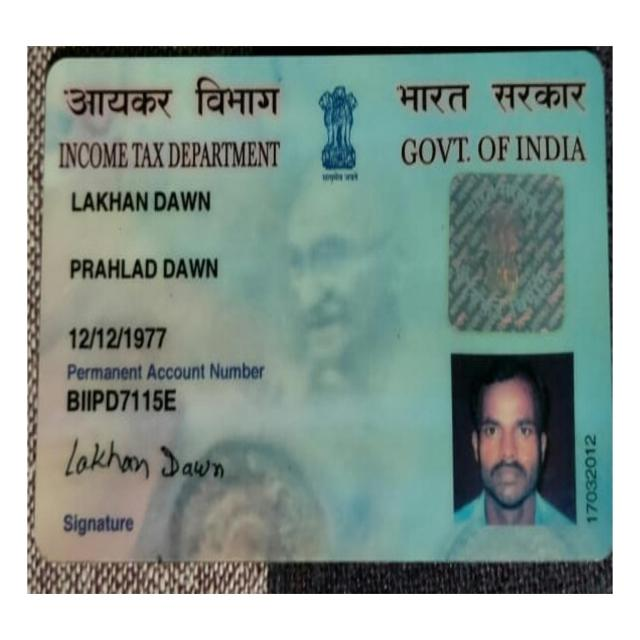pan_card: (47, 61, 605, 558)
